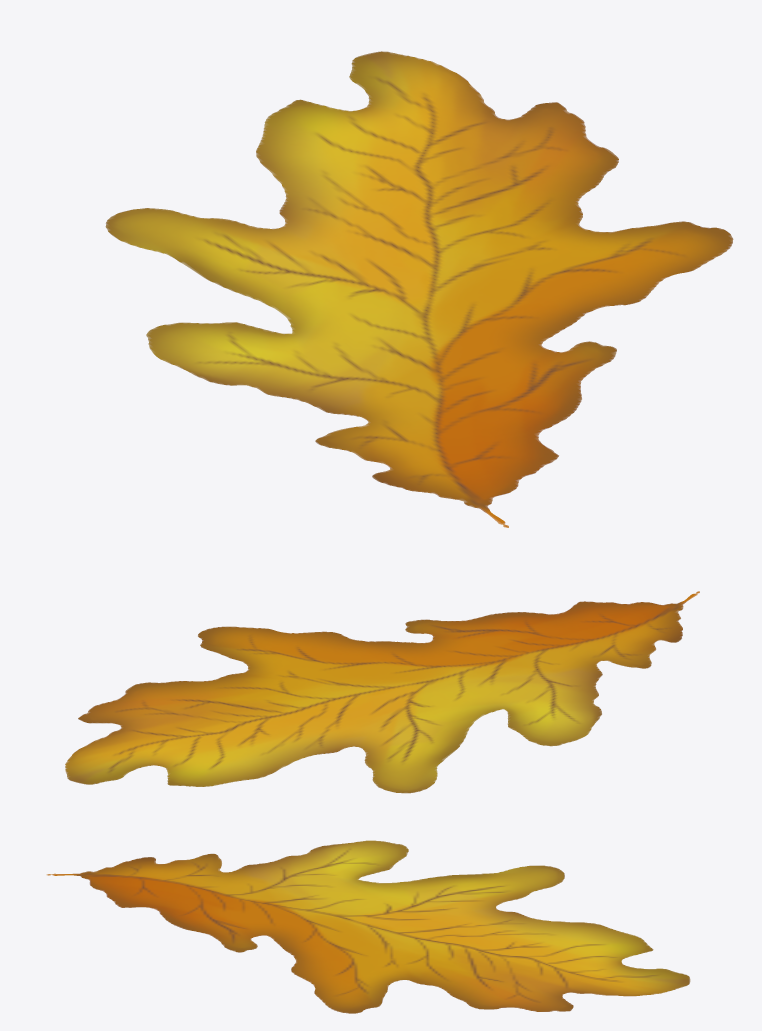
Rendered from dead_leaf_2.fbx.
3 renders of one model, top to bottom at view 1: azimuth 30°, elevation 25°; view 2: azimuth 150°, elevation 25°; view 3: azimuth 270°, elevation 25°, orthographic. The views are drawn at different scales.
Visible parts, largest first — view 1: dead_leaf_2; view 2: dead_leaf_2; view 3: dead_leaf_2.
Boxes of the visible parts, bbox=[...] form: dead_leaf_2: bbox=[105, 51, 733, 527]; dead_leaf_2: bbox=[65, 591, 699, 793]; dead_leaf_2: bbox=[46, 840, 690, 1013].
Bounding box in the file's own units: 19.2 × 0.4441 × 32.46.
